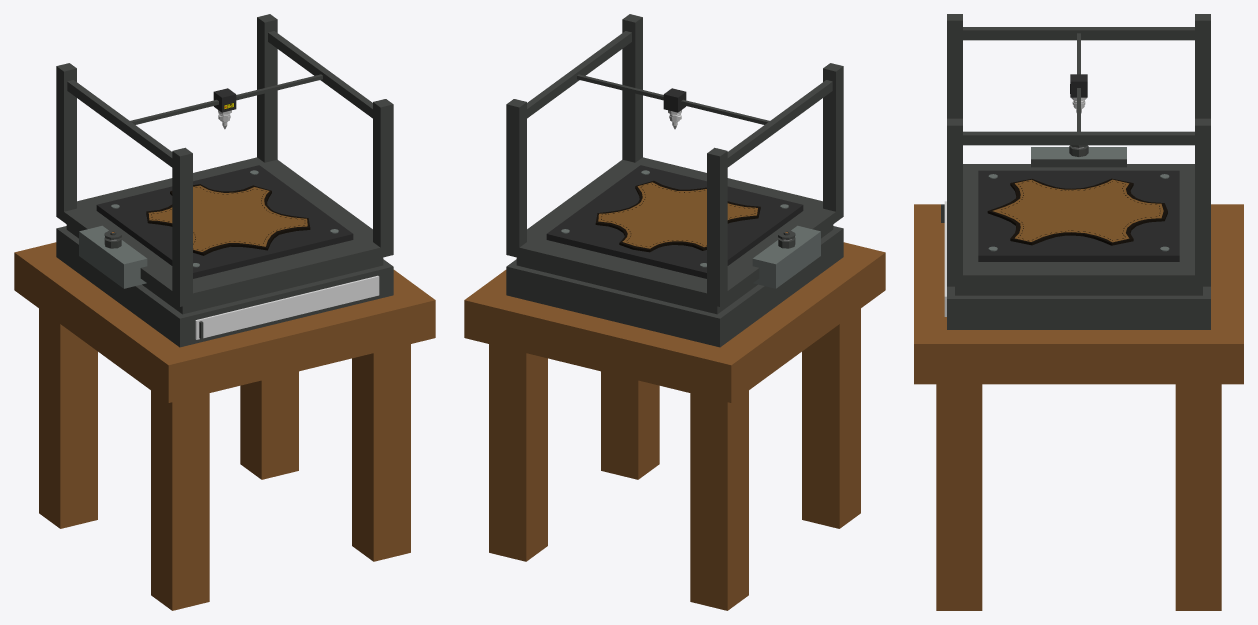
The model's file is LaserCutterLeatherExport.glb.
3 views of the same model, side by side, from view 1: azimuth 30°, elevation 25°; view 2: azimuth 150°, elevation 25°; view 3: azimuth 270°, elevation 25° (orthographic). The views are drawn at different scales.
Parts seen in each view (by area): view 1: Table, Laser Cutter, Baseplate, Leather, Progress Bar Back, Altitude Bar, Leather Side, Laser Bar, Nozzle; view 2: Table, Laser Cutter, Baseplate, Leather, Altitude Bar, Leather Side, Laser Bar, Nozzle; view 3: Table, Laser Cutter, Baseplate, Altitude Bar, Leather, Leather Side, Nozzle.
Part boxes in pixels (x1=…): Table: x1=14, y1=242, x2=435, y2=610; Laser Cutter: x1=56, y1=14, x2=393, y2=347; Baseplate: x1=96, y1=165, x2=353, y2=278; Leather: x1=148, y1=185, x2=307, y2=251; Progress Bar Back: x1=195, y1=275, x2=379, y2=339; Altitude Bar: x1=67, y1=31, x2=372, y2=167; Leather Side: x1=146, y1=184, x2=310, y2=255; Laser Bar: x1=130, y1=74, x2=322, y2=124; Nozzle: x1=213, y1=88, x2=236, y2=129; Table: x1=464, y1=242, x2=885, y2=610; Laser Cutter: x1=506, y1=14, x2=843, y2=347; Baseplate: x1=546, y1=165, x2=803, y2=278; Leather: x1=598, y1=182, x2=757, y2=248; Altitude Bar: x1=527, y1=31, x2=832, y2=167; Leather Side: x1=595, y1=180, x2=760, y2=252; Laser Bar: x1=577, y1=74, x2=769, y2=124; Nozzle: x1=663, y1=88, x2=686, y2=129; Table: x1=914, y1=204, x2=1243, y2=610; Laser Cutter: x1=947, y1=14, x2=1210, y2=329; Baseplate: x1=978, y1=170, x2=1179, y2=261; Altitude Bar: x1=963, y1=27, x2=1194, y2=145; Leather: x1=993, y1=179, x2=1163, y2=242; Leather Side: x1=987, y1=178, x2=1167, y2=245; Nozzle: x1=1070, y1=74, x2=1087, y2=113.
Size of the model in its own units: 2.5 by 4 by 2.5.
